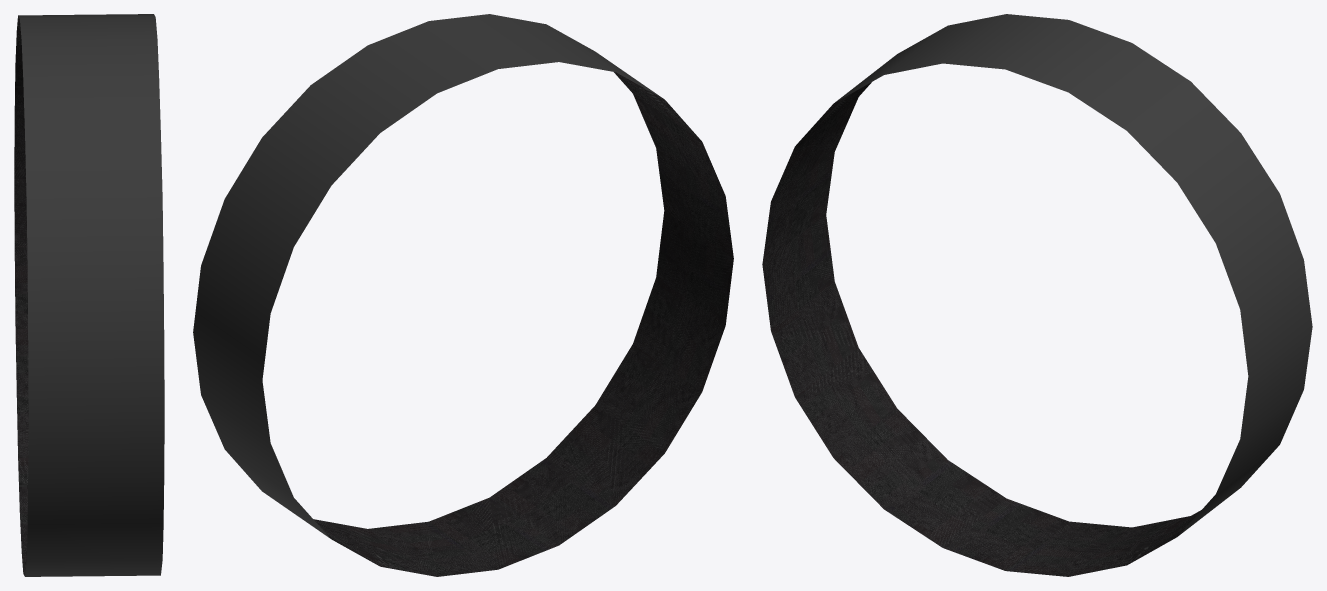
Rendered from original-96.obj.
The picture shows the model from 3 angles, left to right: view 1: azimuth 30°, elevation 25°; view 2: azimuth 150°, elevation 25°; view 3: azimuth 270°, elevation 25°; orthographic projection. The views are drawn at different scales.
Visible parts, largest first — view 1: mesh44/mesh44-geometry/material_1#mesh44-geometry; view 2: mesh44/mesh44-geometry/material_1#mesh44-geometry; view 3: mesh44/mesh44-geometry/material_1#mesh44-geometry.
Part boxes in pixels (left/top/right/bottom): mesh44/mesh44-geometry/material_1#mesh44-geometry: left=14, top=14, right=164, bottom=576; mesh44/mesh44-geometry/material_1#mesh44-geometry: left=193, top=14, right=733, bottom=576; mesh44/mesh44-geometry/material_1#mesh44-geometry: left=762, top=14, right=1312, bottom=576.
Size of the model in its own units: 0.0589 by 0.0854 by 0.0849.
2 materials, 1 textured.
